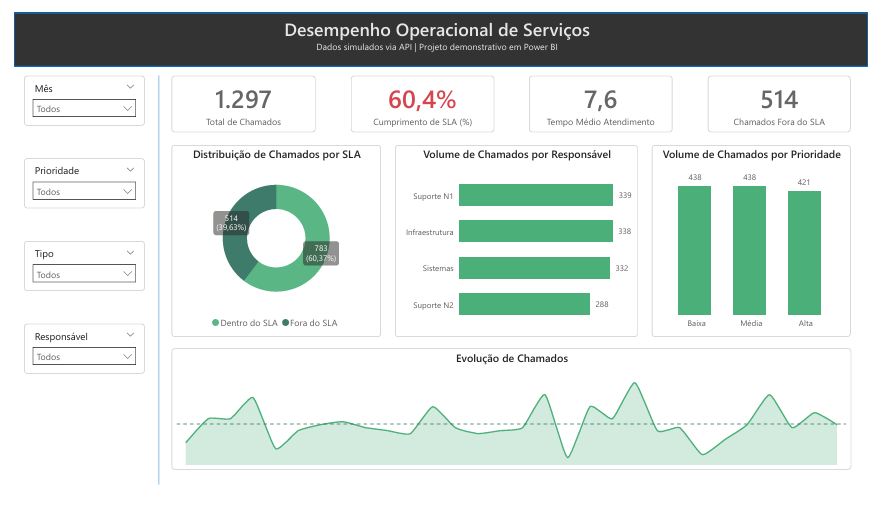

What the dashboard file says about the page in this screenshot:
{"tool":"powerbi","page":{"name":"Visão Geral","canvas":[1280,720],"ordinal":0},"visuals":[{"type":"shape","box":[0,0,1280.2,80],"z":0},{"type":"card","fields":{"Values":["Medidas.Total Chamados"]},"box":[236.5,94.3,215.2,85],"z":1000},{"type":"card","fields":{"Values":["Medidas.% SLA"]},"box":[504.6,94.1,215,85],"z":2000},{"type":"card","fields":{"Values":["Medidas.Tempo Médio Atendimento"]},"box":[772.5,94.1,215,85],"z":3000},{"type":"card","fields":{"Values":["Medidas.Chamados Fora SLA"]},"box":[1040.4,94.1,213.8,84.9],"z":4000},{"type":"slicer","fields":{"Values":["chamados.MesNome"]},"box":[15.2,94,180.5,75],"z":5000},{"type":"slicer","fields":{"Values":["chamados.prioridade"]},"box":[15.2,218,180.5,75],"z":6000},{"type":"slicer","fields":{"Values":["chamados.tipo"]},"box":[15.2,342,180.5,75],"z":7000},{"type":"slicer","fields":{"Values":["chamados.responsavel"]},"box":[14.9,466.1,180.7,75],"z":8000},{"type":"shape","box":[207.8,94.4,17.8,612.2],"z":9000},{"type":"donutChart","title":"Distribuição de Chamados por SLA","fields":{"Y":["Medidas.Total Chamados"],"Category":["chamados.SLA Status"]},"box":[236.5,197.9,313.5,288.3],"z":10000},{"type":"clusteredBarChart","title":"Volume de Chamados por Responsável","fields":{"Category":["chamados.responsavel"],"Y":["Medidas.Total Chamados"]},"box":[571.2,197.9,364,288.3],"z":11000},{"type":"clusteredColumnChart","title":"Volume de Chamados por Prioridade","fields":{"Category":["chamados.prioridade"],"Y":["Medidas.Total Chamados"]},"box":[956.5,197.9,297.6,288.3],"z":12000},{"type":"areaChart","title":"Evolução de Chamados","fields":{"Category":["chamados.dataAbertura.Variation.Hierarquia de datas.Mês","chamados.dataAbertura.Variation.Hierarquia de datas.Dia"],"Y":["Medidas.Total Chamados"]},"box":[236.5,503.5,1018.9,182],"z":13000},{"type":"textbox","box":[14.9,0,1238.3,80.7],"z":14000}]}

Visuals, with their boxes in screenshot pixels (x1, y1, x2, y2), scaled from the page's 1280x720 canvas onto the 882x508 screenshot:
shape: bbox=(0, 0, 881, 56)
card - Medidas.Total Chamados: bbox=(163, 67, 311, 127)
card - Medidas.% SLA: bbox=(348, 66, 496, 126)
card - Medidas.Tempo Médio Atendimento: bbox=(532, 66, 680, 126)
card - Medidas.Chamados Fora SLA: bbox=(717, 66, 864, 126)
slicer - chamados.MesNome: bbox=(10, 66, 135, 119)
slicer - chamados.prioridade: bbox=(10, 154, 135, 207)
slicer - chamados.tipo: bbox=(10, 241, 135, 294)
slicer - chamados.responsavel: bbox=(10, 329, 135, 382)
shape: bbox=(143, 67, 155, 499)
"Distribuição de Chamados por SLA" donutChart: bbox=(163, 140, 379, 343)
"Volume de Chamados por Responsável" clusteredBarChart: bbox=(394, 140, 644, 343)
"Volume de Chamados por Prioridade" clusteredColumnChart: bbox=(659, 140, 864, 343)
"Evolução de Chamados" areaChart: bbox=(163, 355, 865, 484)
textbox: bbox=(10, 0, 864, 57)
